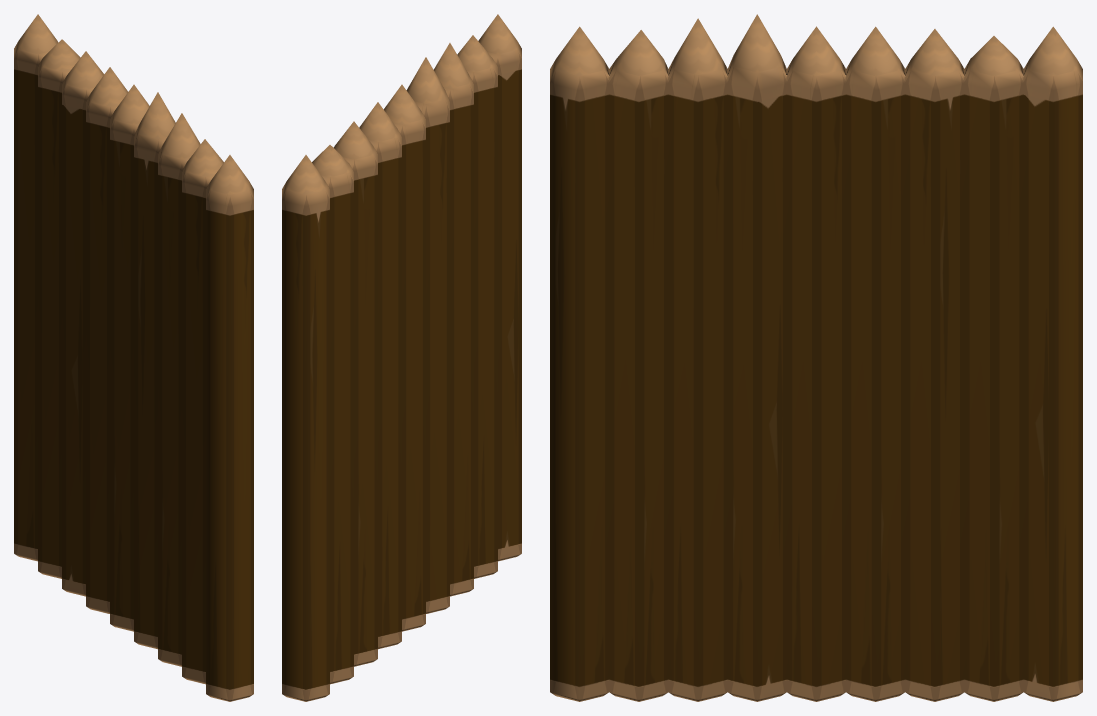
The model's file is mod_building_palisade_section_3.fbx.
3 views of the same model, side by side, from view 1: azimuth 30°, elevation 25°; view 2: azimuth 150°, elevation 25°; view 3: azimuth 270°, elevation 25° (orthographic). The views are drawn at different scales.
Parts seen in each view (by area): view 1: mod_building_palisade_section_c; view 2: mod_building_palisade_section_c; view 3: mod_building_palisade_section_c.
Part boxes in pixels (x1,y1,x2,y2): mod_building_palisade_section_c: (14, 14, 253, 701); mod_building_palisade_section_c: (282, 14, 521, 701); mod_building_palisade_section_c: (550, 14, 1082, 701).
Bounding box in the file's own units: 38.54 × 421 × 300.
